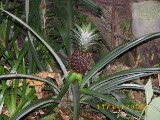pineapple: (70, 23, 99, 75)
